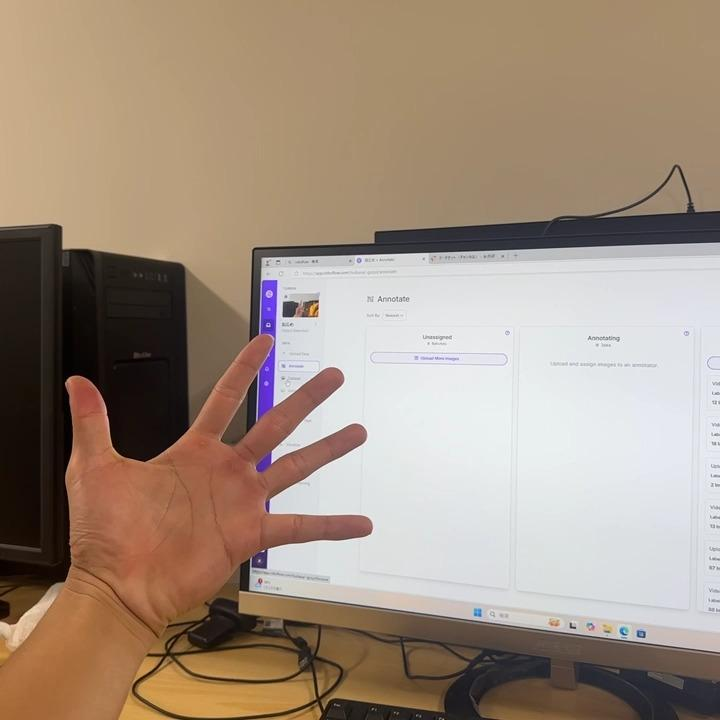without_gloves: (17, 258, 404, 670)
